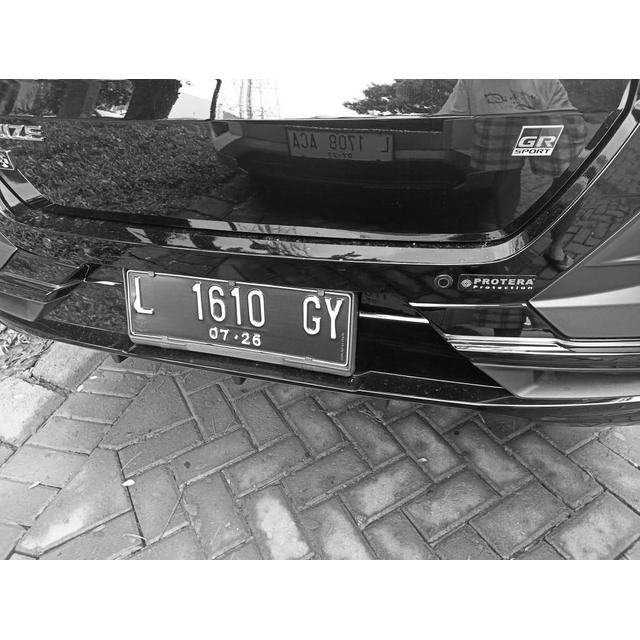license: (130, 273, 344, 353)
